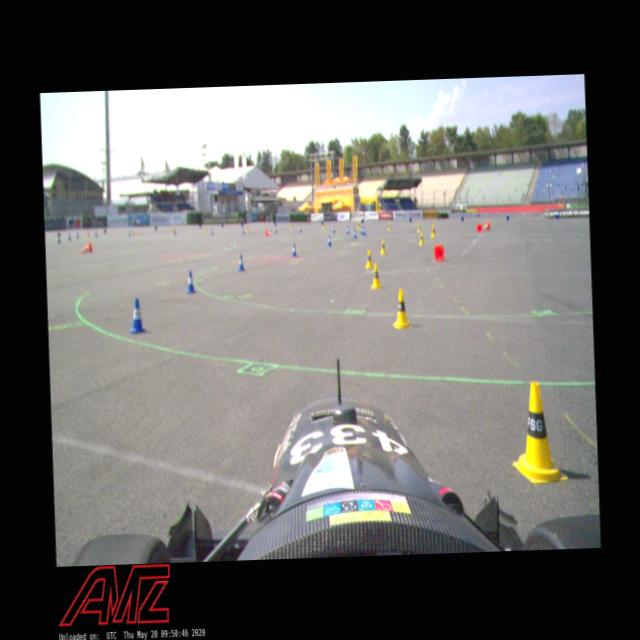blue_cone: (128, 297, 144, 334), (184, 269, 196, 294), (236, 252, 245, 271), (290, 242, 298, 257), (326, 233, 332, 246), (352, 228, 357, 238), (362, 226, 366, 237), (332, 224, 336, 233), (298, 224, 302, 232), (346, 226, 350, 234), (360, 226, 363, 234)
orange_cone: (432, 244, 444, 262), (80, 241, 92, 254), (483, 220, 490, 231), (476, 222, 482, 232), (264, 228, 272, 235)
yellow_cone: (508, 378, 568, 485), (391, 287, 411, 329), (370, 263, 382, 289), (364, 248, 374, 268), (378, 239, 386, 255), (417, 232, 424, 246), (430, 223, 436, 238), (386, 221, 391, 230), (356, 220, 360, 230), (417, 222, 421, 232), (322, 222, 325, 228)
